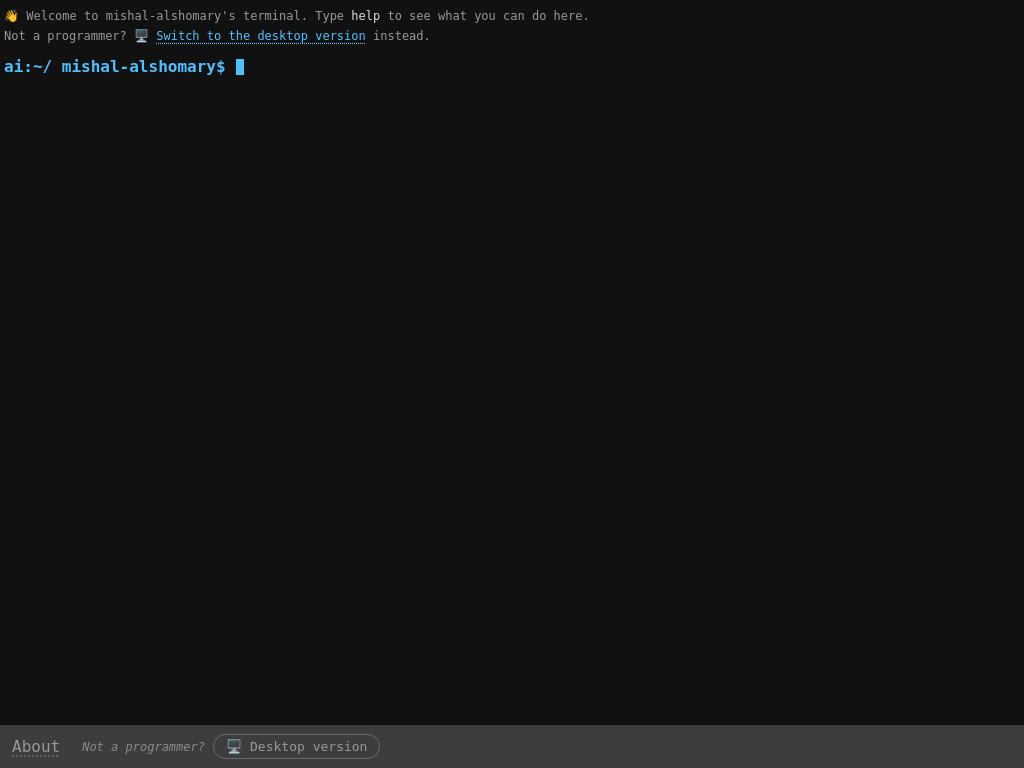
Test case: renders the prompt and answers help
The image size is (1024, 768).
Expected: the text "ai:~/ mishal-alshomary$" is shown, [4,57,226,78]
Type "help" into the field named "command" at (628, 67), box [236,57,1020,78]
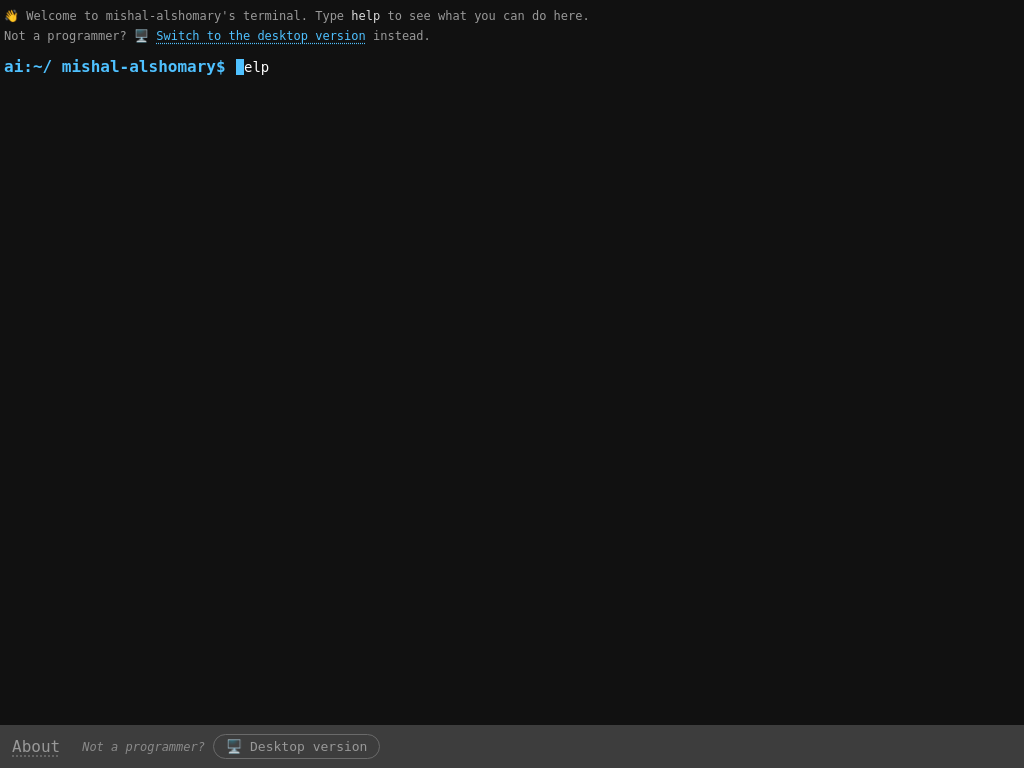
Press Enter in the field named "command", box [236,57,1020,78]
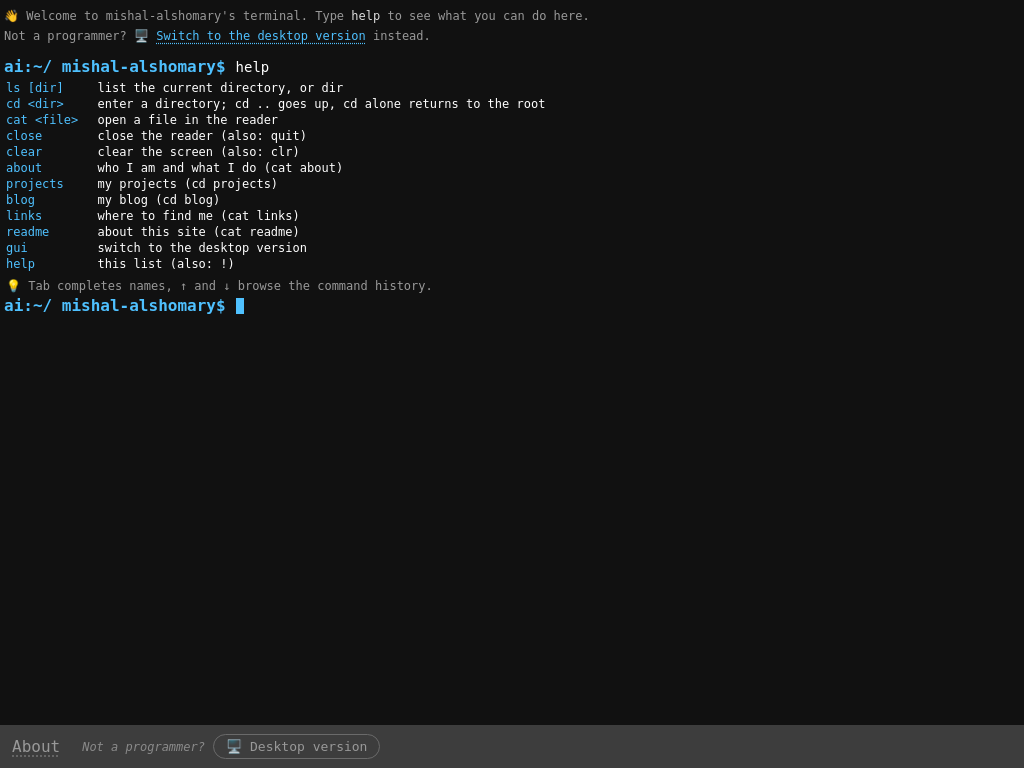
Expected: the text "cat <file>" is shown, [6,113,86,127]
Expected: the text "open a file in the reader" is shown, [98,113,278,127]
